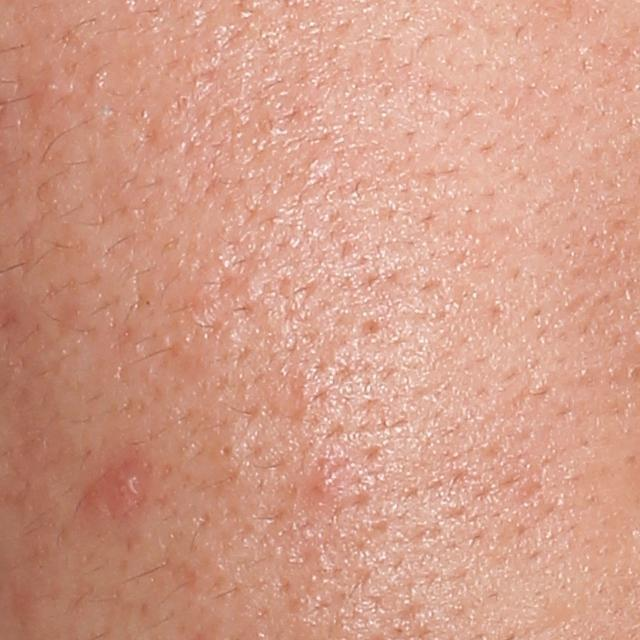comedo: (214, 439, 238, 462)
papule: (83, 456, 151, 514)
